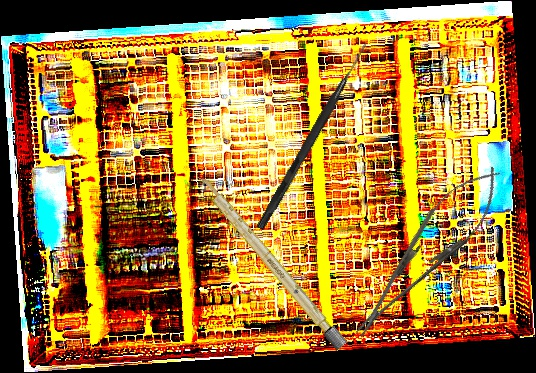Hook Surgical: (256, 39, 370, 232)
Needle Holder: (338, 153, 515, 351)
Scalpel Handle: (193, 171, 348, 351)
